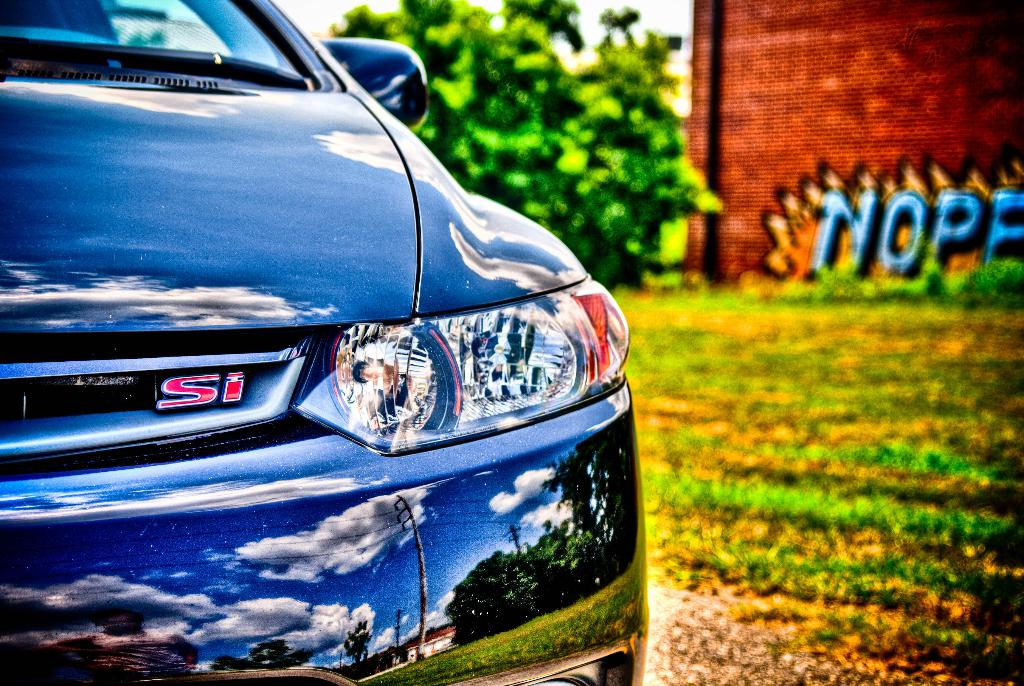mobil: (1, 1, 657, 683)
